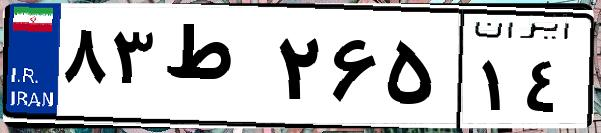1: (475, 38, 525, 113)
2: (270, 28, 330, 110)
3: (110, 28, 158, 98)
4: (525, 38, 570, 115)
5: (385, 28, 445, 110)
6: (330, 28, 385, 110)
8: (57, 26, 110, 100)
ط: (158, 20, 270, 120)
